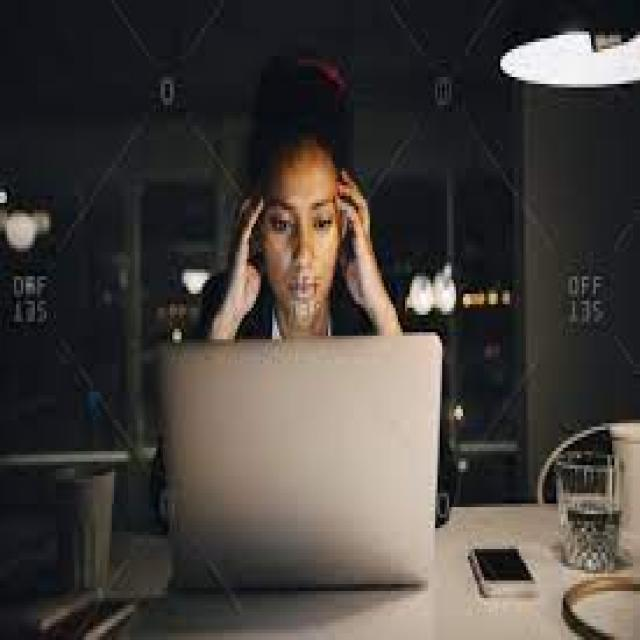No_Goggles: (262, 194, 338, 246)
Person: (209, 57, 399, 342)
